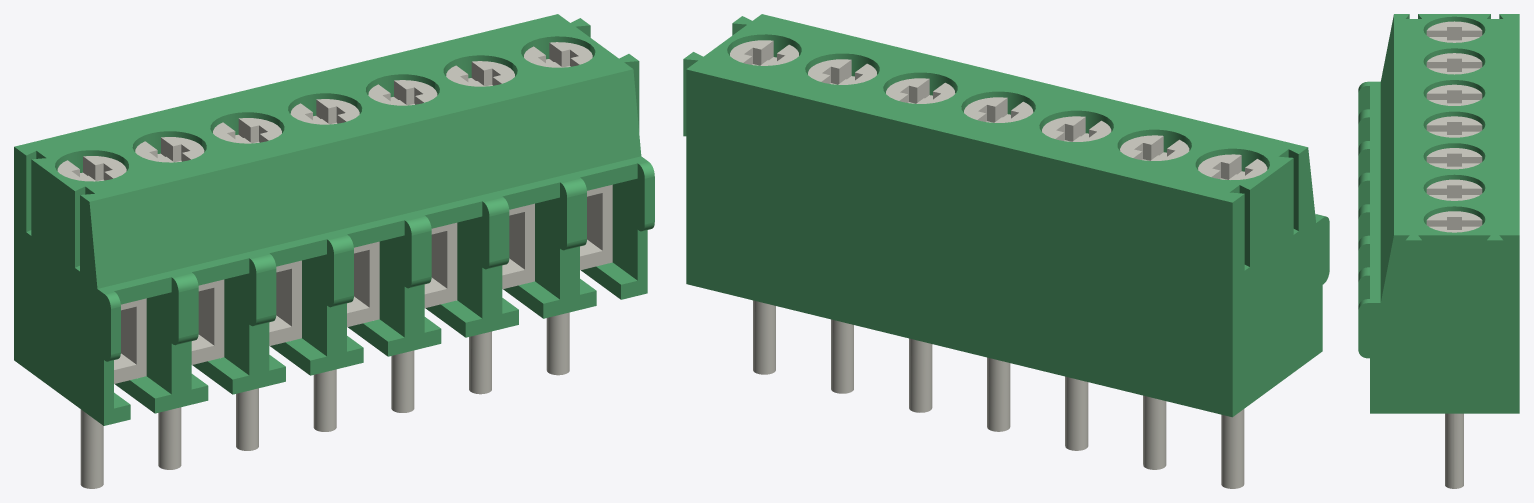
File: kc-terminalblock_phoenix_pt-1_5-7-3.5-h_1x07_p3.50mm_horizontal.glb
3 views of the same model, side by side, from view 1: azimuth 30°, elevation 25°; view 2: azimuth 150°, elevation 25°; view 3: azimuth 270°, elevation 25° (orthographic). The views are drawn at different scales.
Parts seen in each view (by area): view 1: 0.08333333333333333_0.4166666666666667_0.16666666666666666_0, 0.6666666666666666_0.6666666666666666_0.5833333333333334_0.8; view 2: 0.08333333333333333_0.4166666666666667_0.16666666666666666_0, 0.6666666666666666_0.6666666666666666_0.5833333333333334_0.8; view 3: 0.08333333333333333_0.4166666666666667_0.16666666666666666_0, 0.6666666666666666_0.6666666666666666_0.5833333333333334_0.8.
Part boxes in pixels (box(x1,y1,x2,y2)): 0.08333333333333333_0.4166666666666667_0.16666666666666666_0: box(14, 14, 654, 425); 0.6666666666666666_0.6666666666666666_0.5833333333333334_0.8: box(57, 42, 612, 488); 0.08333333333333333_0.4166666666666667_0.16666666666666666_0: box(683, 14, 1329, 417); 0.6666666666666666_0.6666666666666666_0.5833333333333334_0.8: box(730, 40, 1267, 488); 0.08333333333333333_0.4166666666666667_0.16666666666666666_0: box(1358, 14, 1519, 413); 0.6666666666666666_0.6666666666666666_0.5833333333333334_0.8: box(1426, 21, 1482, 488).
Size of the model in its own units: 2.51 by 1.37 by 0.7551.
